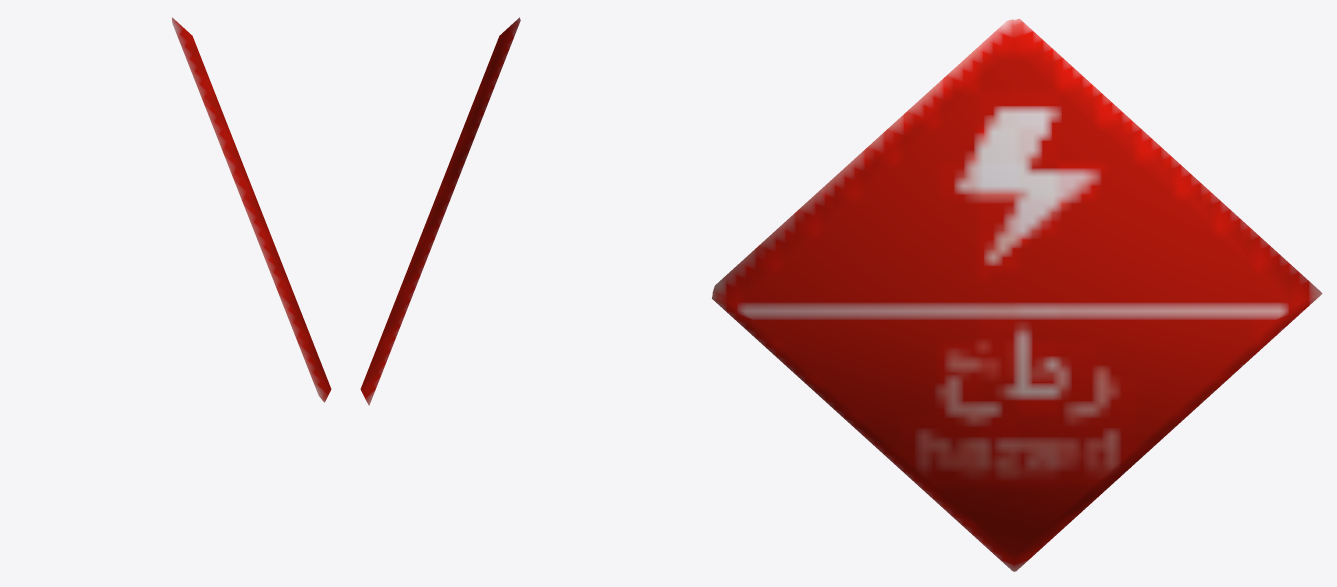
The model's file is M11B_Sign09.glb.
3 renders of one model, left to right at view 1: azimuth 30°, elevation 25°; view 2: azimuth 150°, elevation 25°; view 3: azimuth 270°, elevation 25°, orthographic.
Parts seen in each view (by area): view 1: M11B_SIGN09; view 2: M11B_SIGN09; view 3: M11B_SIGN09.
Boxes of the visible parts, x1=… form: M11B_SIGN09: x1=172, y1=17, x2=331, y2=402; M11B_SIGN09: x1=360, y1=17, x2=520, y2=405; M11B_SIGN09: x1=712, y1=18, x2=1322, y2=571.
Size of the model in its own units: 0.019 by 0.424 by 0.424.
1 material, 1 textured.
